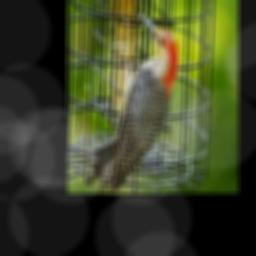Woodpecker: (91, 12, 178, 191)
